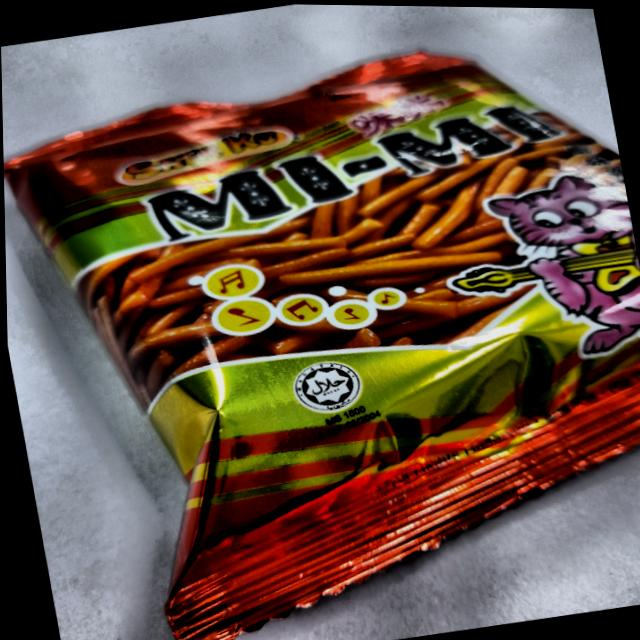Plastic: (1, 43, 640, 640)
